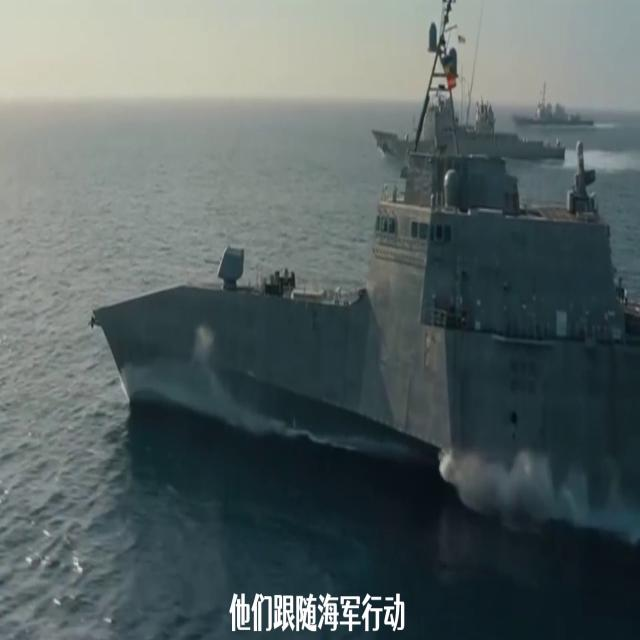navalvessels: (87, 82, 640, 519), (376, 81, 556, 173), (517, 80, 591, 133)
